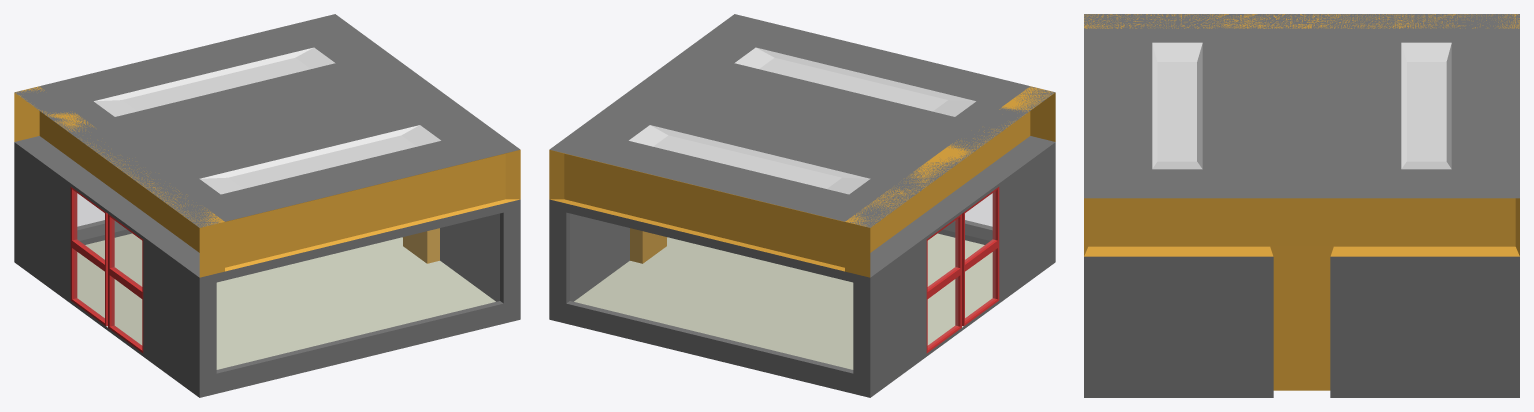
Rendered from Escenario_tienda.fbx.
The picture shows the model from 3 angles, left to right: view 1: azimuth 30°, elevation 25°; view 2: azimuth 150°, elevation 25°; view 3: azimuth 270°, elevation 25°; orthographic projection. The views are drawn at different scales.
Visible parts, largest first — view 1: tiena, cristal; view 2: tiena, cristal; view 3: tiena.
Part boxes in pixels (box(x1,y1,x2,y2)): tiena: box(14, 14, 520, 397); cristal: box(75, 192, 499, 369); tiena: box(549, 14, 1055, 397); cristal: box(570, 192, 994, 369); tiena: box(1084, 14, 1519, 397).
Size of the model in its own units: 3209 by 1623 by 3209.
